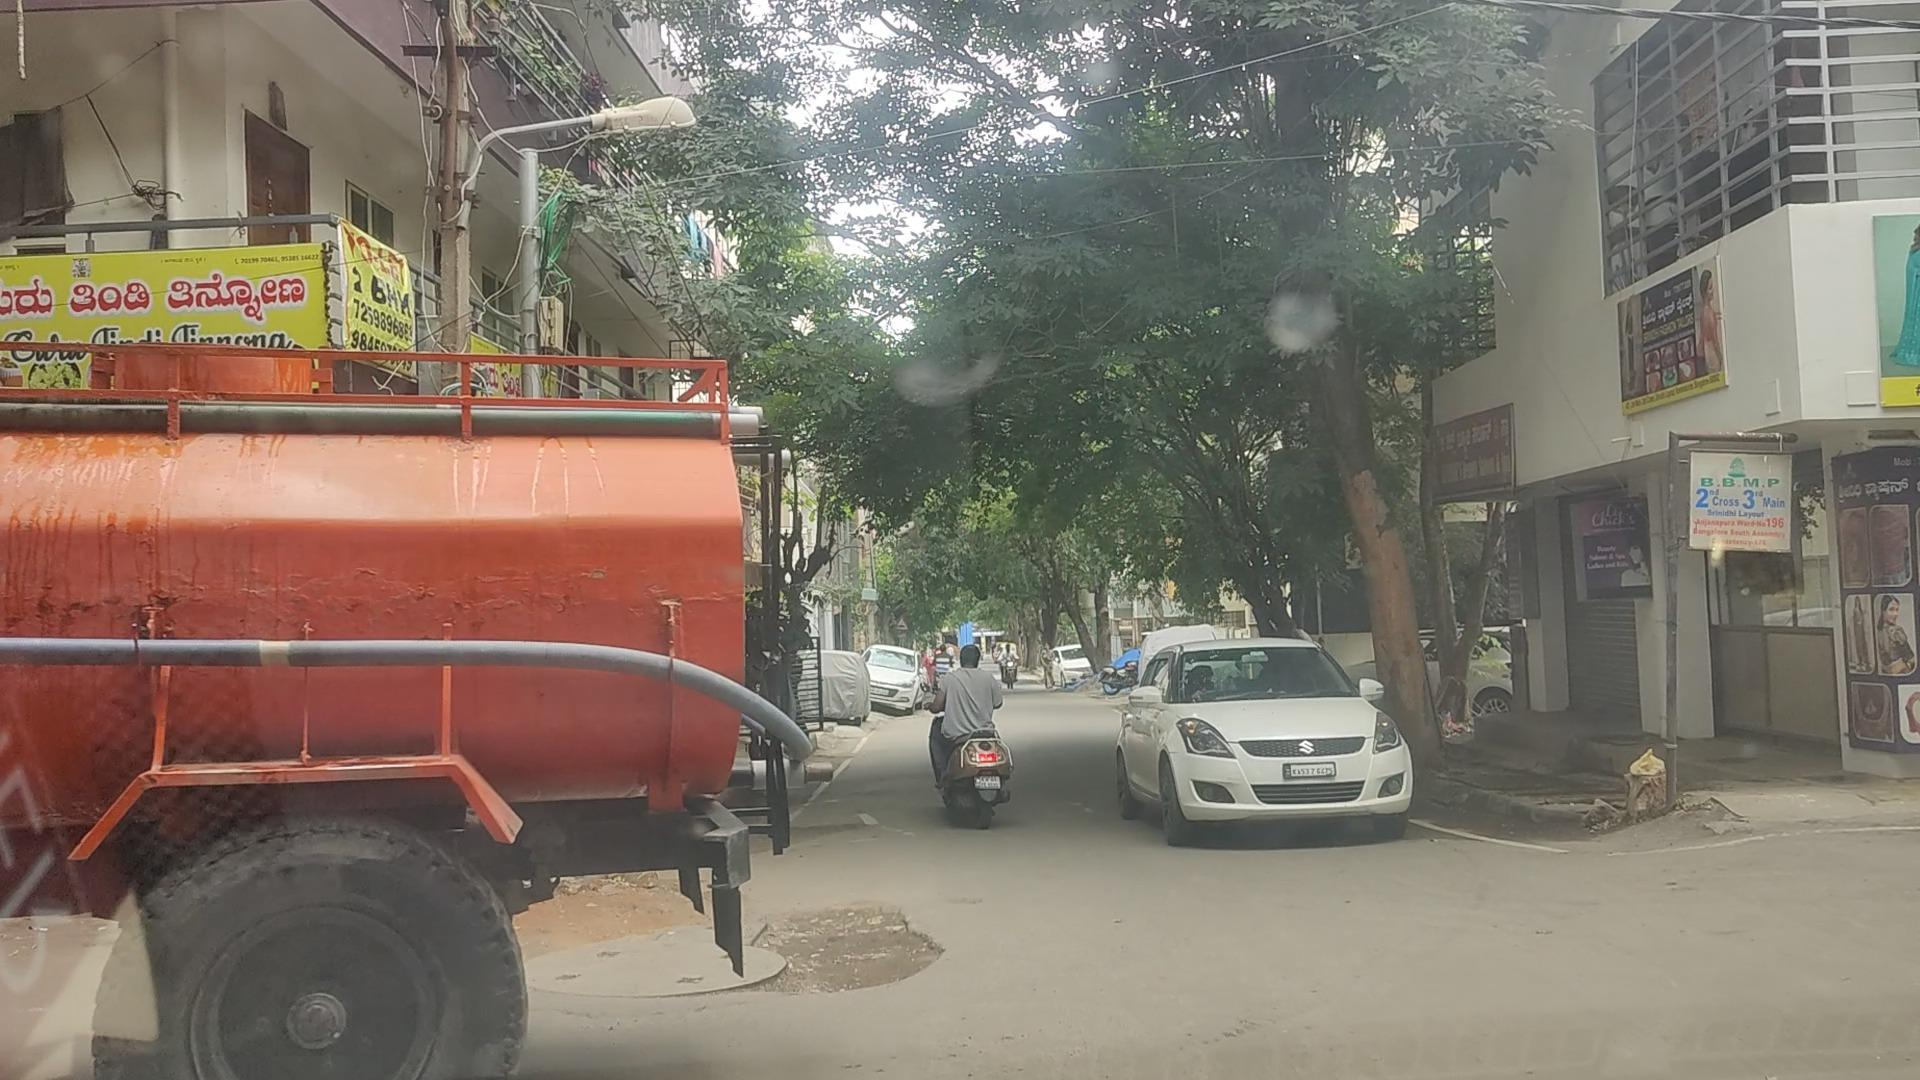LMV: (1121, 615, 1407, 841), (928, 658, 1011, 825)
RoadDamages: (684, 848, 956, 1023)
